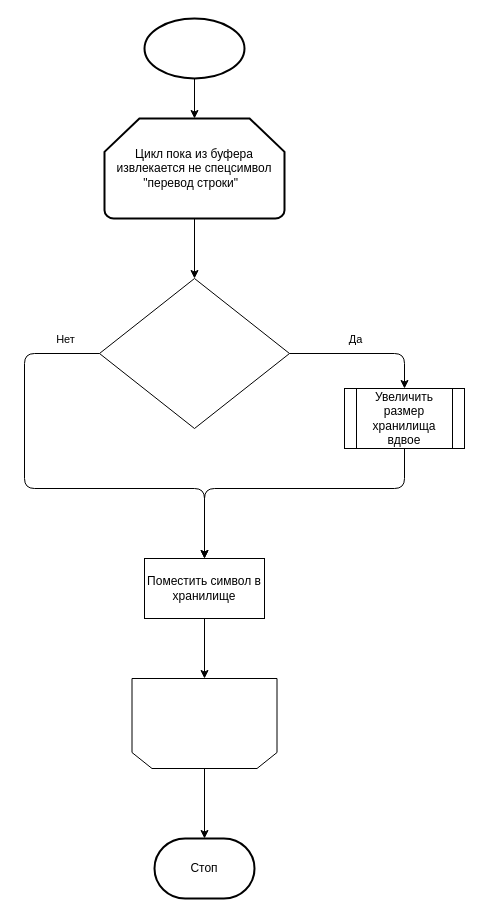
Some shapes in this 482 by 916 pixel diagram are drawn without their labels. The centre of each missing label's shape, as x and y in pixels:
Старт: the point at 194,48
Требуется увеличить размер хранилища?: the point at 194,353
